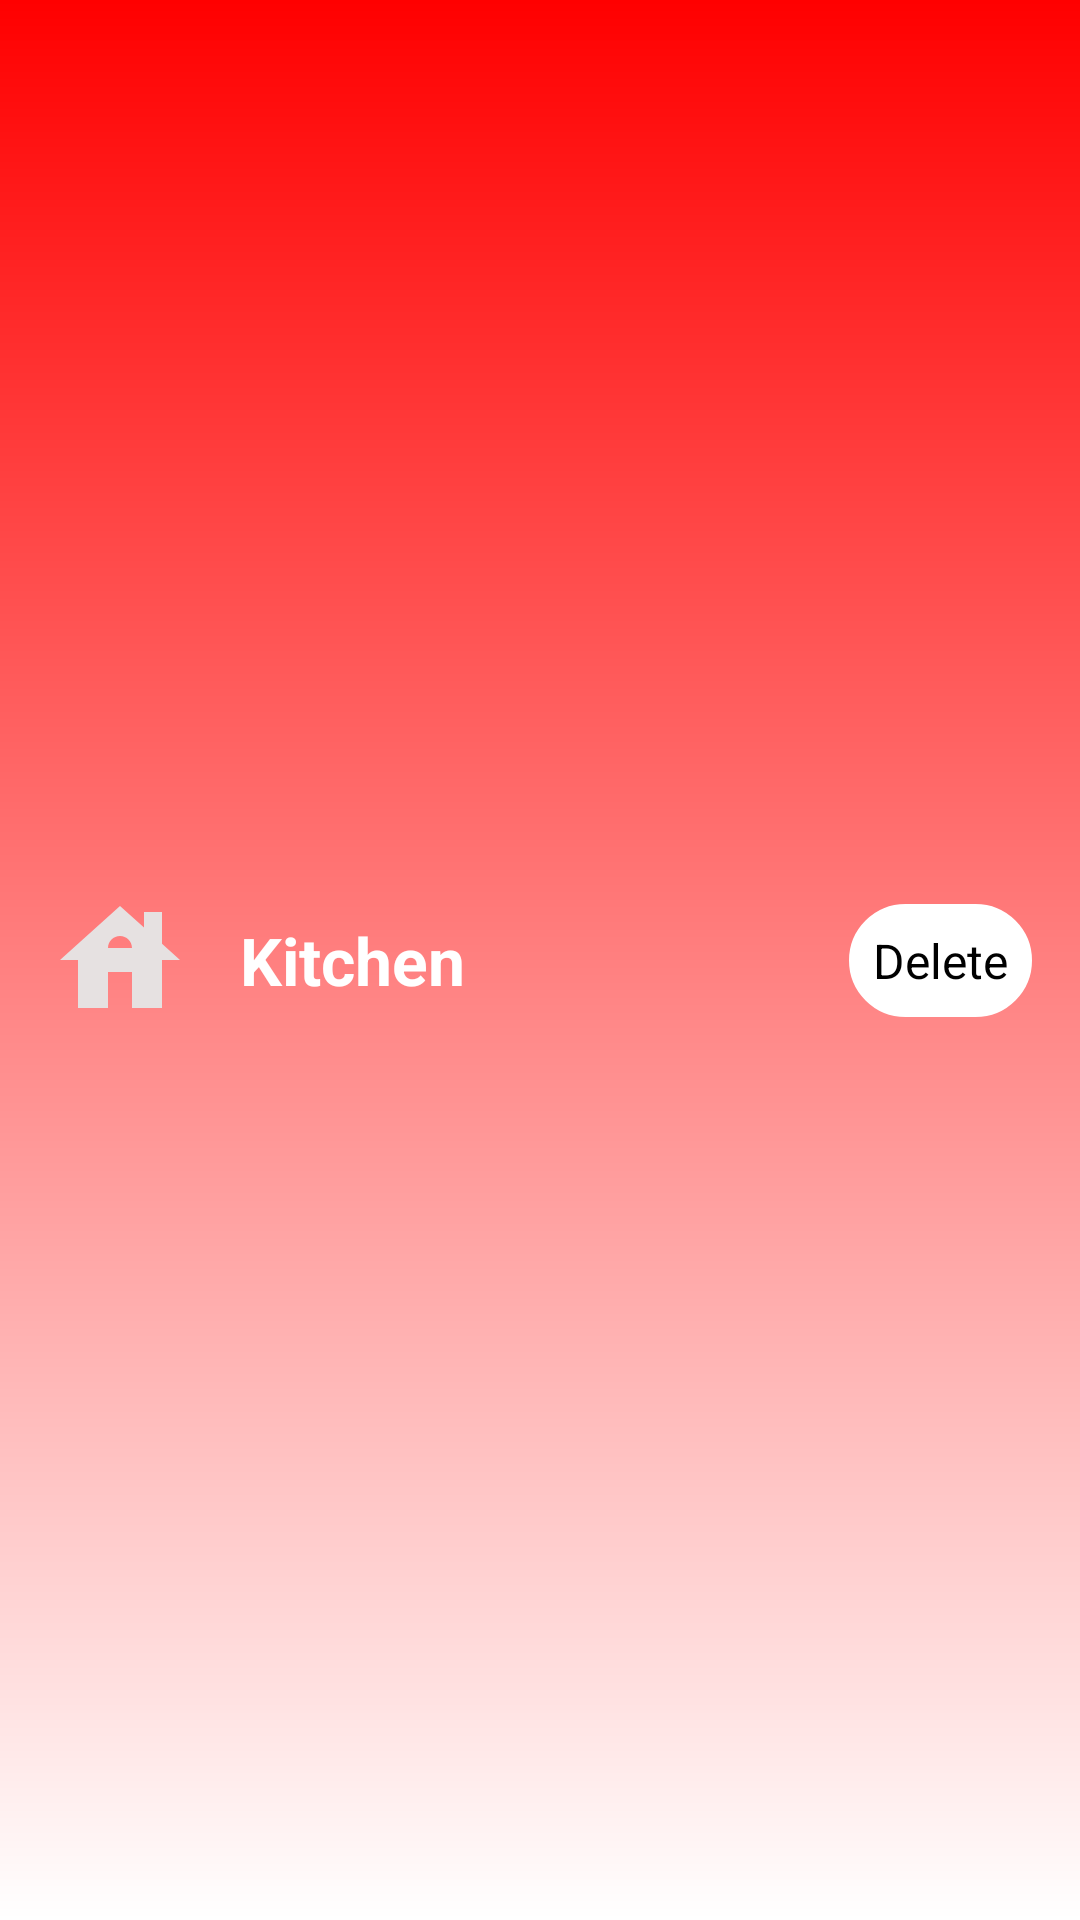

Where icons sit on this 1080px x 1920px app screen, as [x1, y1, x2, y2]:
room: [60, 906, 180, 1008]
